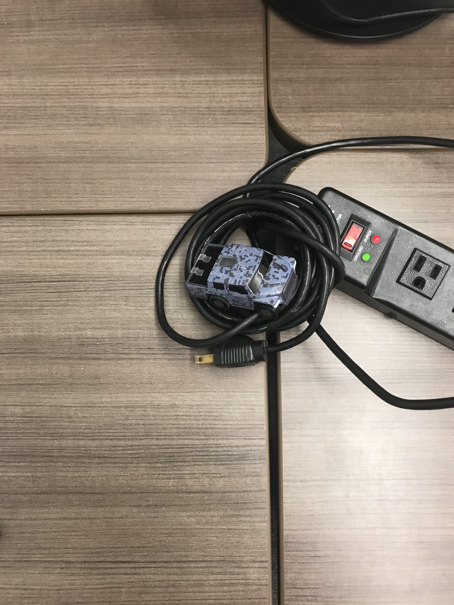MXT: (187, 244, 295, 311)
